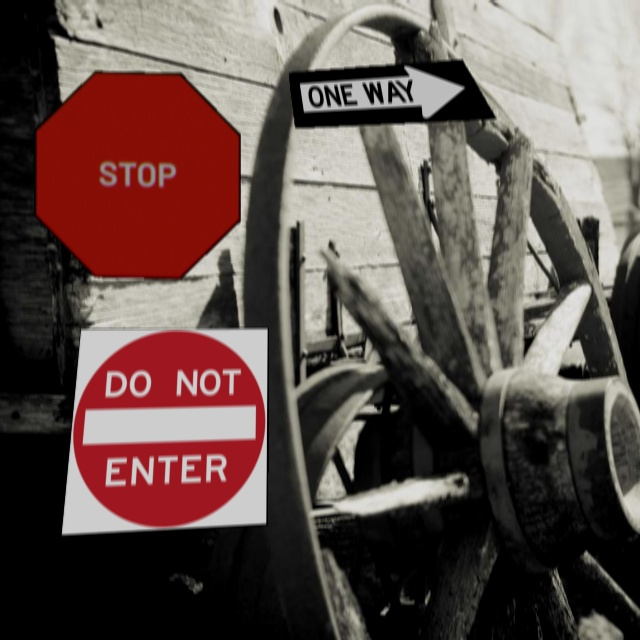DO_NOT_ENTER: (60, 327, 269, 536)
ONE_WAY_ right: (288, 58, 497, 128)
STOP: (34, 70, 241, 279)
